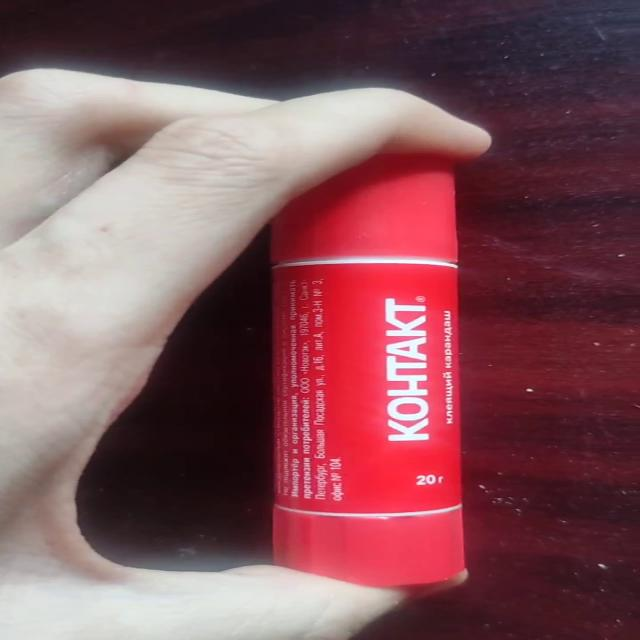glue: (266, 149, 466, 587)
